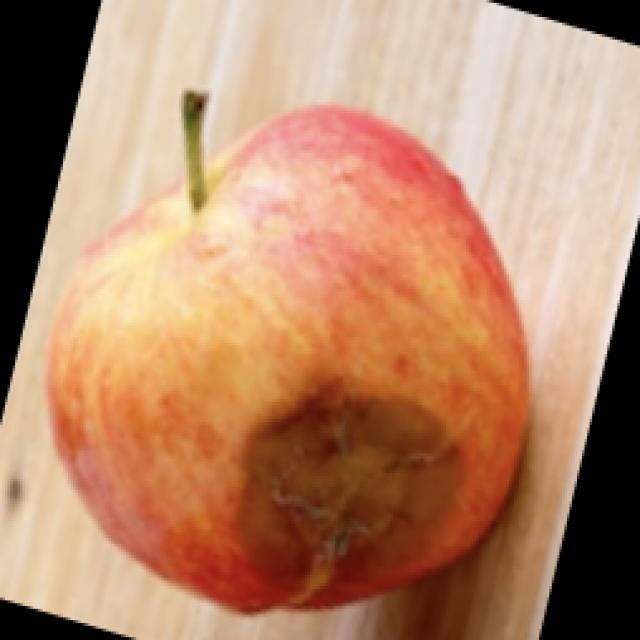Rotten: (50, 113, 530, 597)
